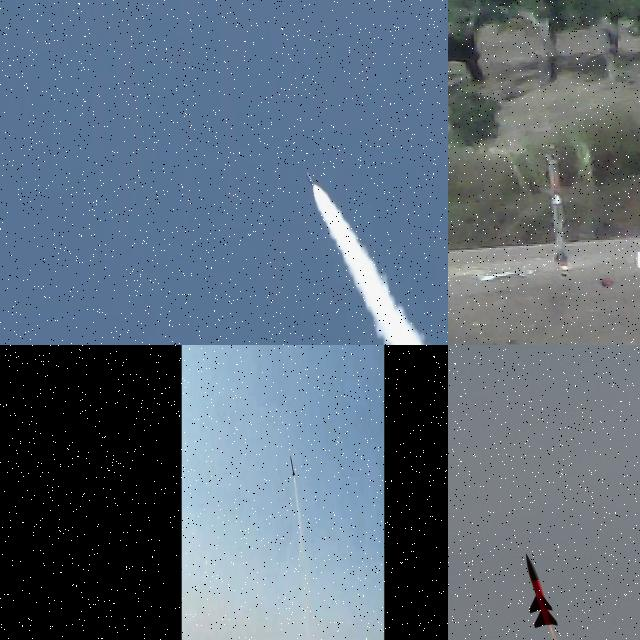Rocket: (525, 554, 558, 628), (548, 154, 568, 264), (306, 170, 314, 189), (290, 455, 295, 476)
